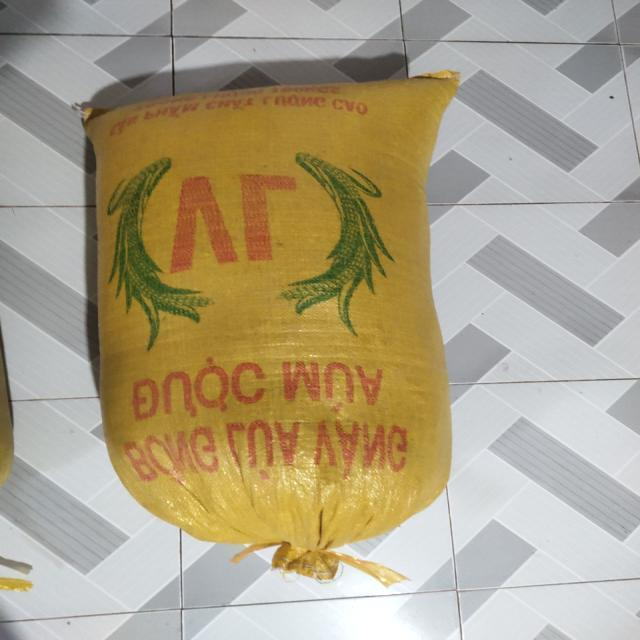gunny_bag: (84, 70, 459, 586)
